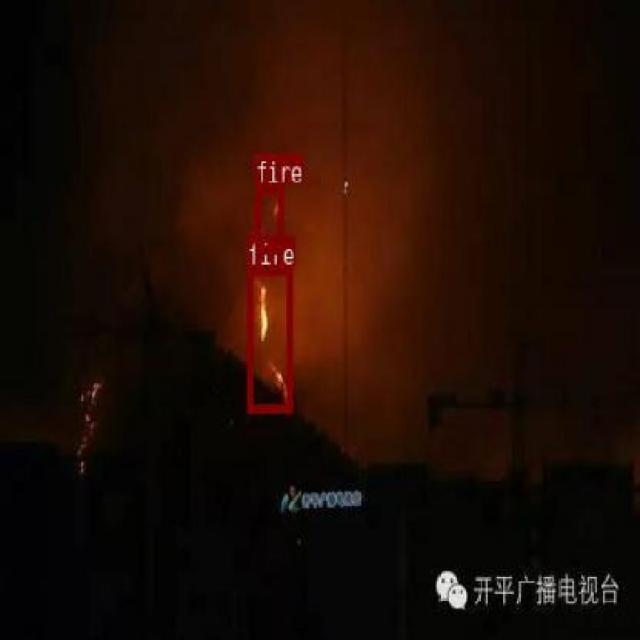Fire: (246, 266, 292, 412), (255, 182, 282, 253)
